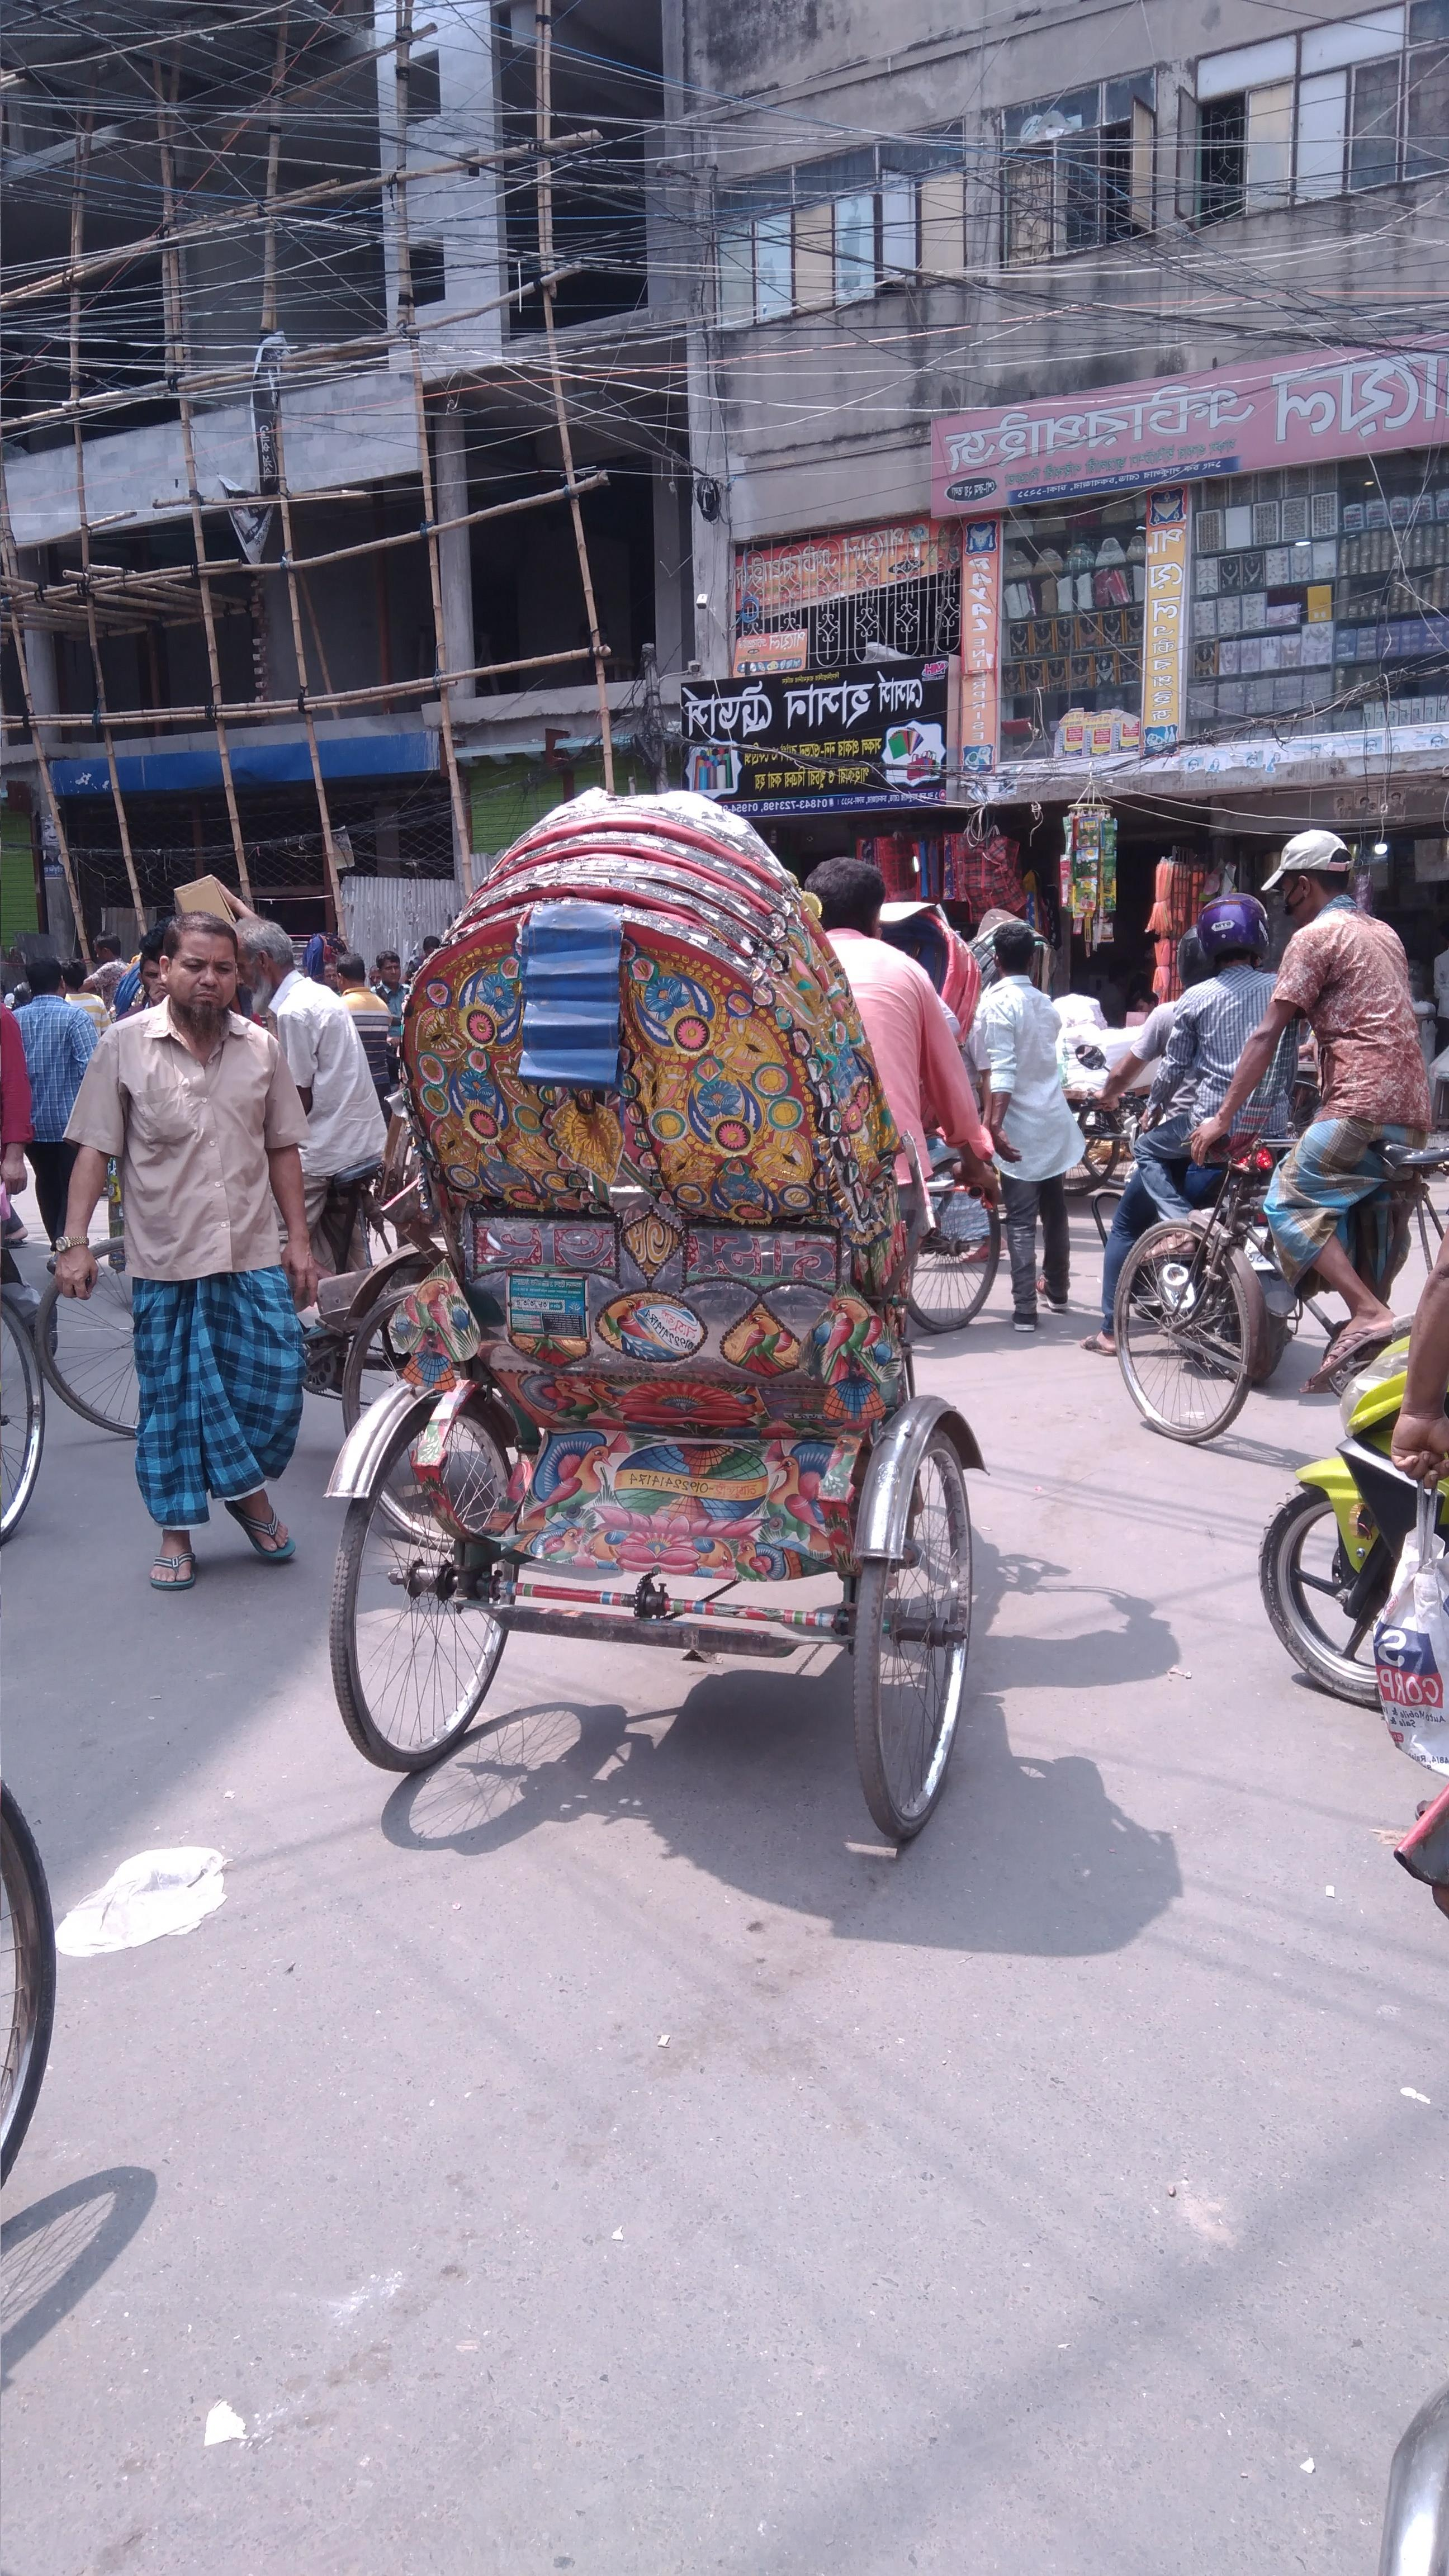Rickshaw: (343, 784, 996, 1944)
